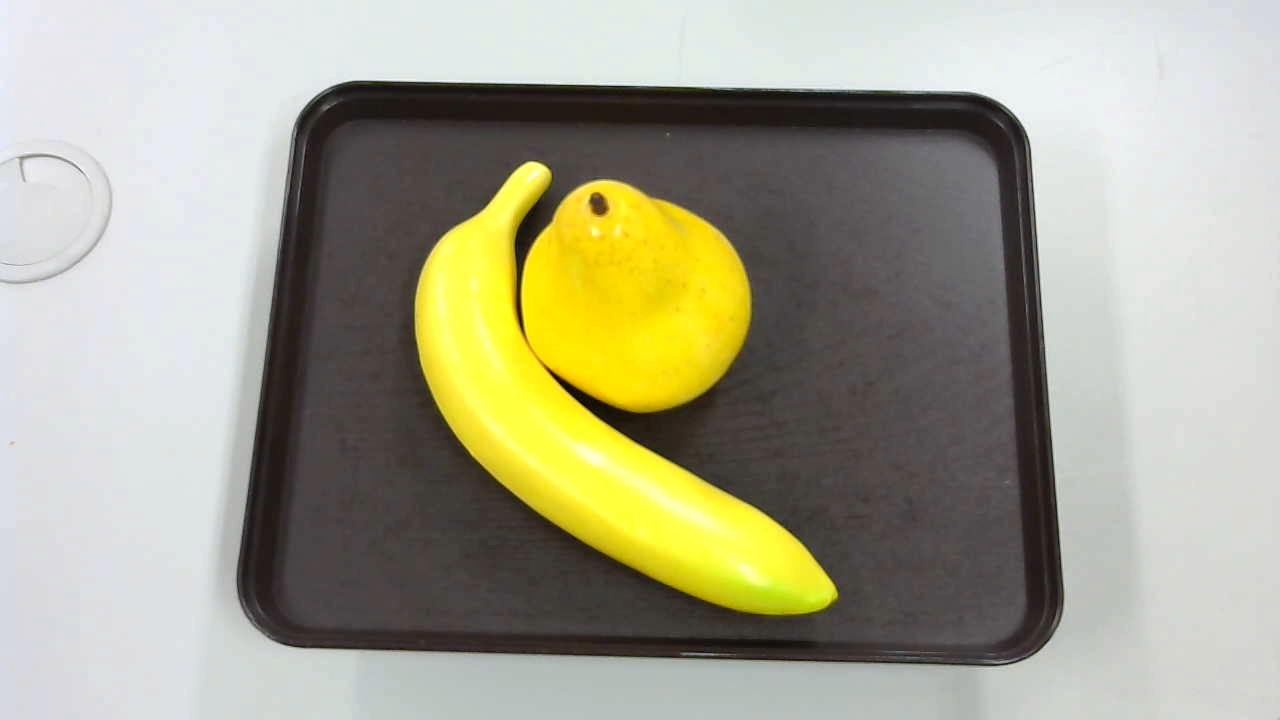banana: (407, 160, 842, 614)
yellow pear: (523, 177, 751, 423)
